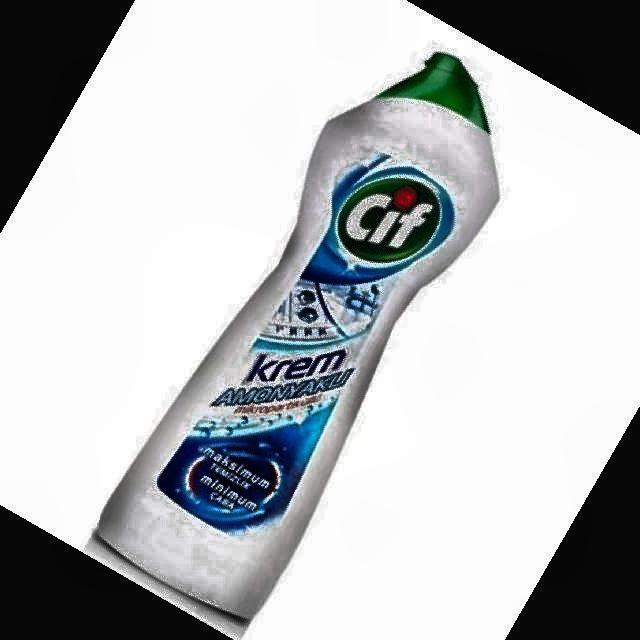plastic: (96, 52, 498, 619)
